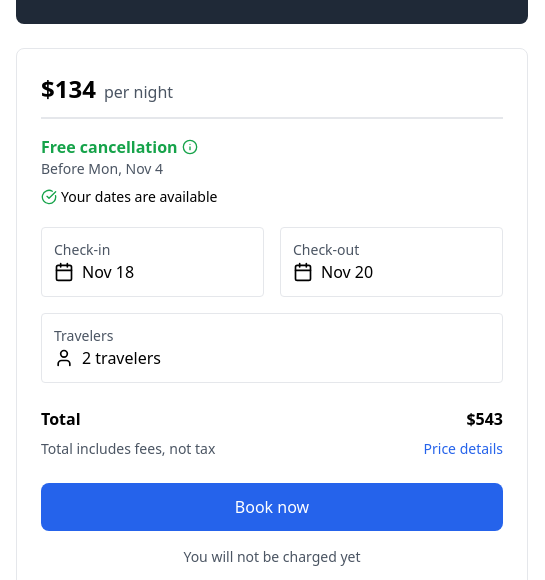
Scenario: BookingCard › Travelers Popup Functionality › closes popup when Done button is clicked
// Open popup
What coordinates should you click on to do the following:
click the element with test id "travelers-button"
I would click on:
 (272, 348)
Its box is [41, 313, 503, 383].
(page scrolled)
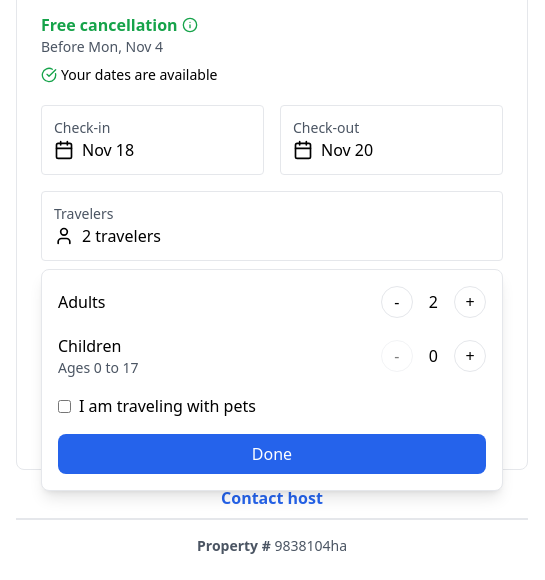
// Click Done button
What coordinates should you click on to do the following:
click the button "Done"
I would click on:
 (272, 454)
Its box is [58, 434, 486, 474].
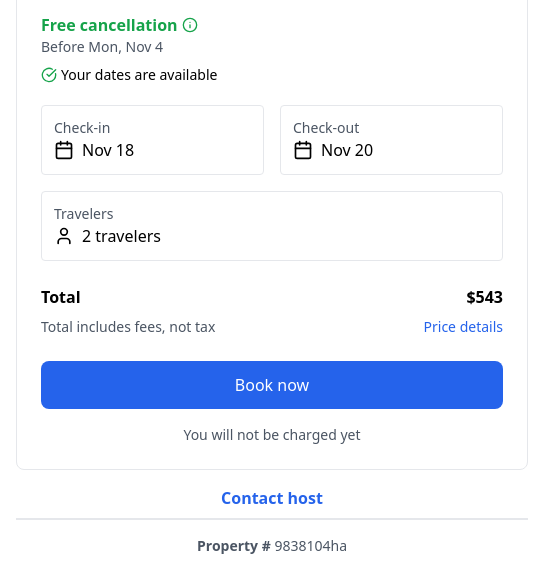
Check: the button "Done" is gone
